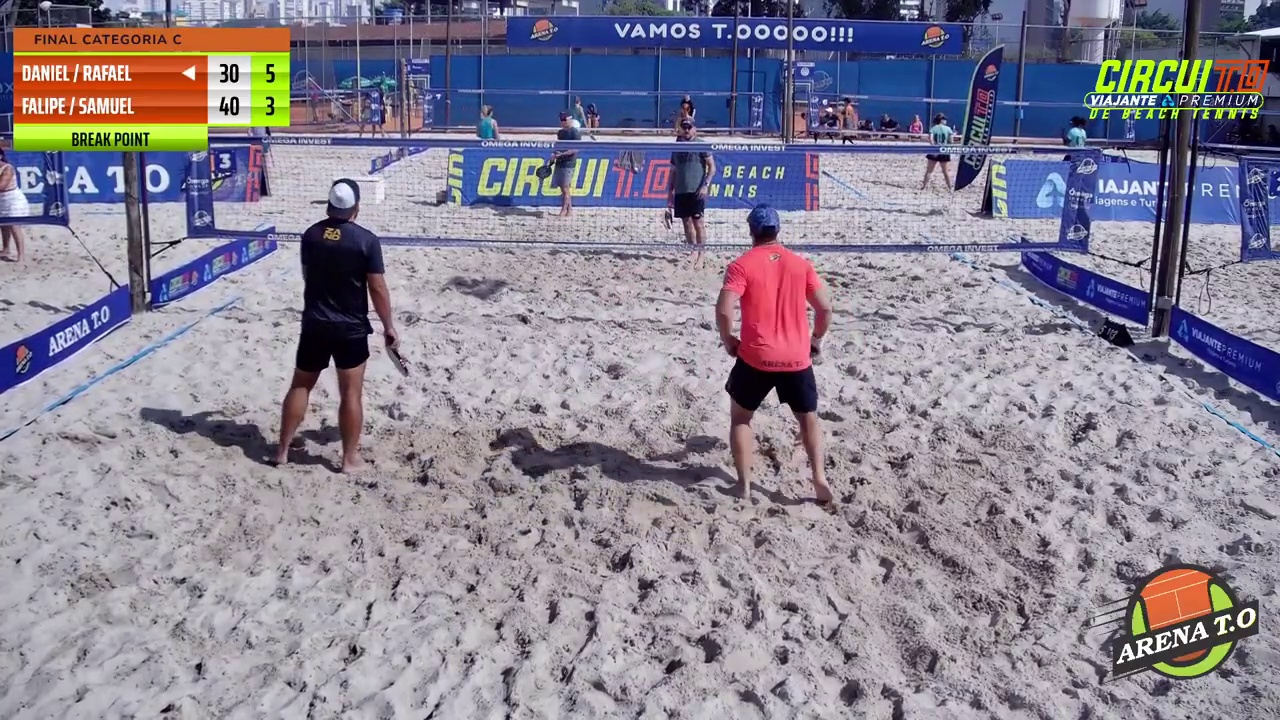court_line: (555, 0, 671, 474), (643, 0, 786, 384)
